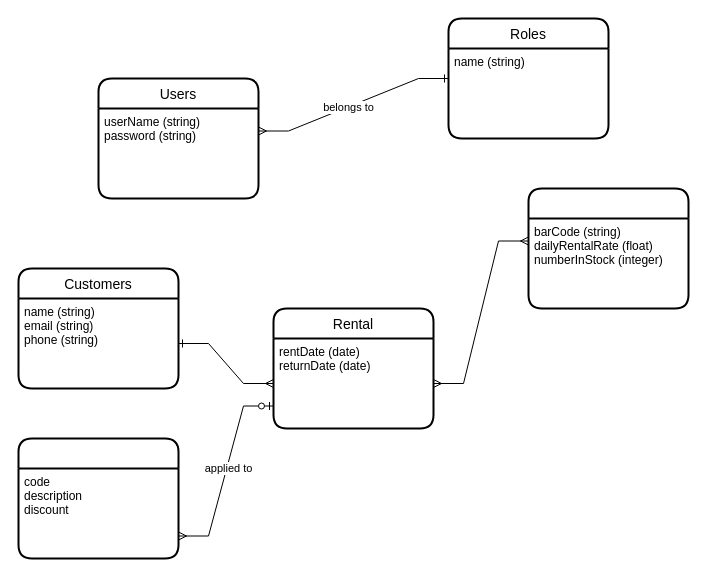
Image size: 706x576. Some labels were removed from this diagram. Here are the shapes that lost their labels. From the top down, the box of each, then its label:
(527, 187, 689, 309): Movies
(17, 437, 179, 559): Coupons
